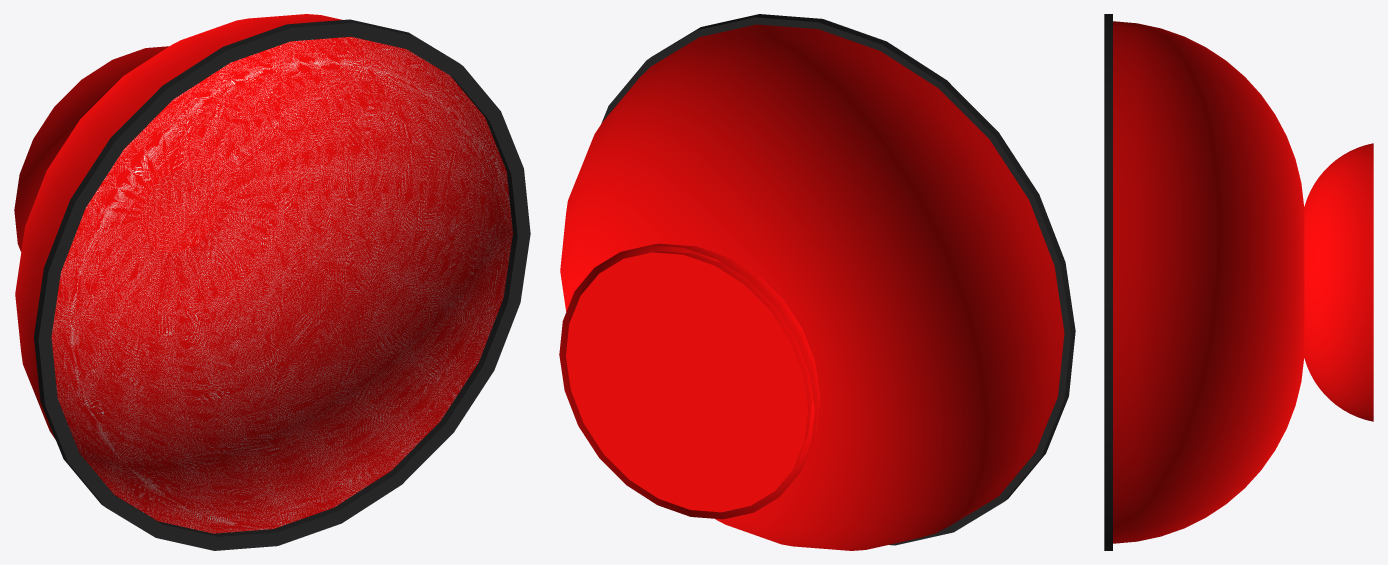
The model's file is model_scale.obj.
The picture shows the model from 3 angles, left to right: view 1: azimuth 30°, elevation 25°; view 2: azimuth 150°, elevation 25°; view 3: azimuth 270°, elevation 25°; orthographic projection. The views are drawn at different scales.
Parts seen in each view (by area): view 1: mesh1_mesh1-geometry, mesh3_mesh3-geometry; view 2: mesh3_mesh3-geometry, mesh2_mesh2-geometry, mesh1_mesh1-geometry; view 3: mesh3_mesh3-geometry, mesh1_mesh1-geometry.
Part boxes in pixels (x1,y1,x2,y2): mesh1_mesh1-geometry: (34, 19, 530, 550); mesh3_mesh3-geometry: (14, 14, 342, 439); mesh3_mesh3-geometry: (559, 24, 1064, 550); mesh2_mesh2-geometry: (566, 251, 812, 512); mesh1_mesh1-geometry: (601, 14, 1075, 545); mesh3_mesh3-geometry: (1113, 21, 1373, 543); mesh1_mesh1-geometry: (1104, 14, 1112, 550).
Size of the model in its own units: 0.1446 by 0.1446 by 0.0725.
